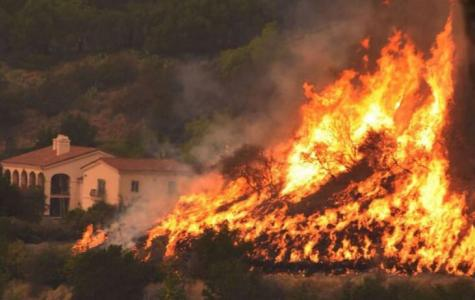fire: (300, 53, 454, 262)
